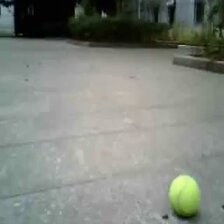tennis: (168, 175, 201, 215)
